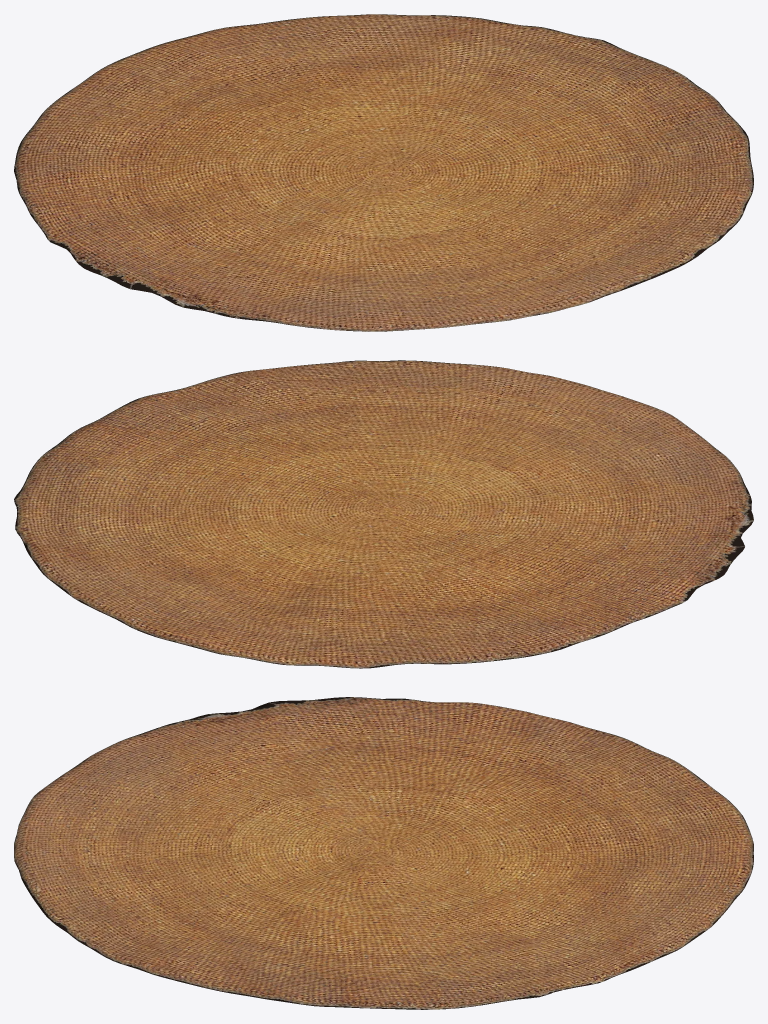
Rendered from unhyun__straw_mat_a.glb.
3 views of the same model, one above another, from view 1: azimuth 30°, elevation 25°; view 2: azimuth 150°, elevation 25°; view 3: azimuth 270°, elevation 25° (orthographic). The views are drawn at different scales.
Visible parts, largest first — view 1: SM_StrawMat373_M_StrawMat373_0; view 2: SM_StrawMat373_M_StrawMat373_0; view 3: SM_StrawMat373_M_StrawMat373_0.
Part boxes in pixels (x1,y1,x2,y2): SM_StrawMat373_M_StrawMat373_0: (14, 14, 753, 331); SM_StrawMat373_M_StrawMat373_0: (14, 360, 753, 668); SM_StrawMat373_M_StrawMat373_0: (14, 697, 753, 1009).
Bounding box in the file's own units: 1.63 × 0.0223 × 1.63.
Materials: 1 (1 with a texture image).
